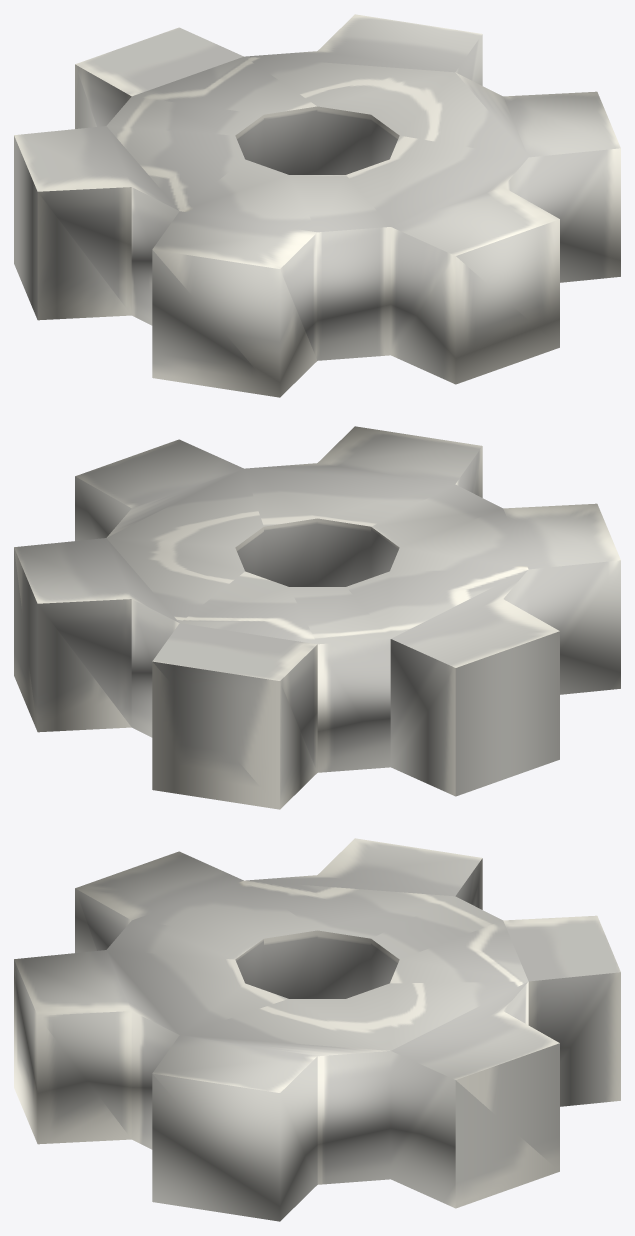
The model's file is gear_low.FBX.
3 renders of one model, top to bottom at view 1: azimuth 30°, elevation 25°; view 2: azimuth 150°, elevation 25°; view 3: azimuth 270°, elevation 25°, orthographic.
Visible parts, largest first — view 1: gear_low; view 2: gear_low; view 3: gear_low.
Boxes of the visible parts, <box> form: gear_low: <box>14,14,620,397</box>; gear_low: <box>14,426,620,809</box>; gear_low: <box>14,838,620,1221</box>.
Bounding box in the file's own units: 2 × 0.4692 × 2.01.
